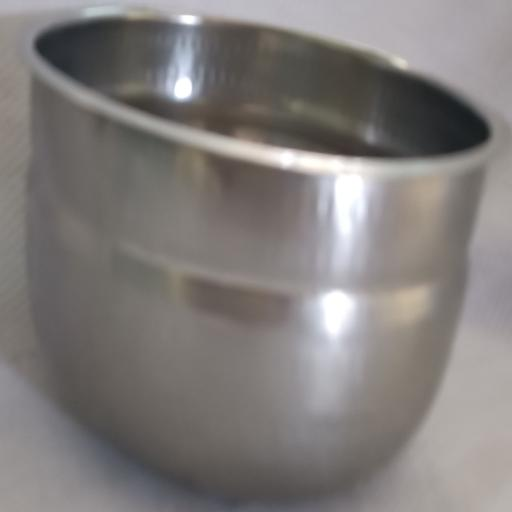vessel: (26, 9, 492, 496)
